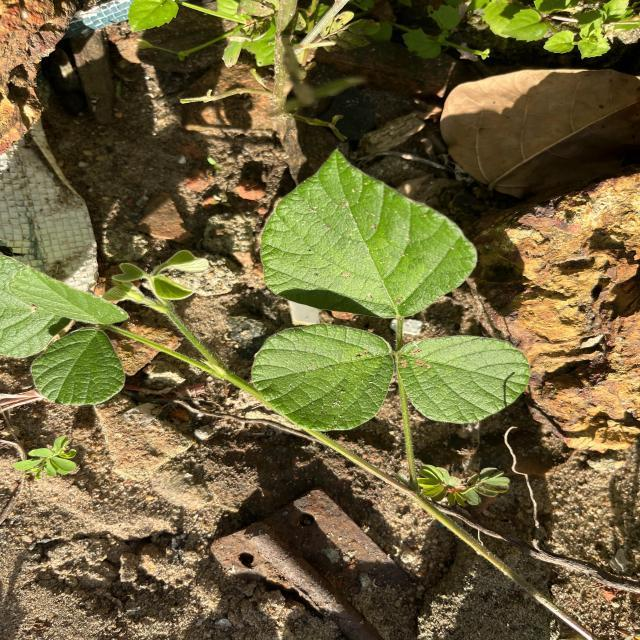Pseudarthria viscida: (248, 145, 535, 434)
